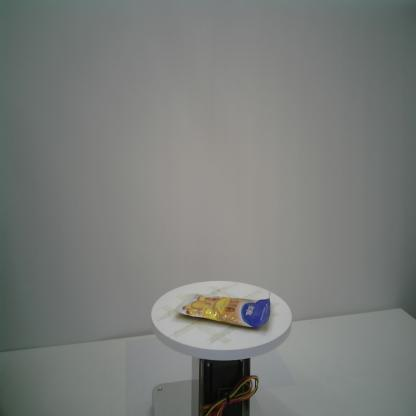Seasoner: (173, 292, 271, 328)
